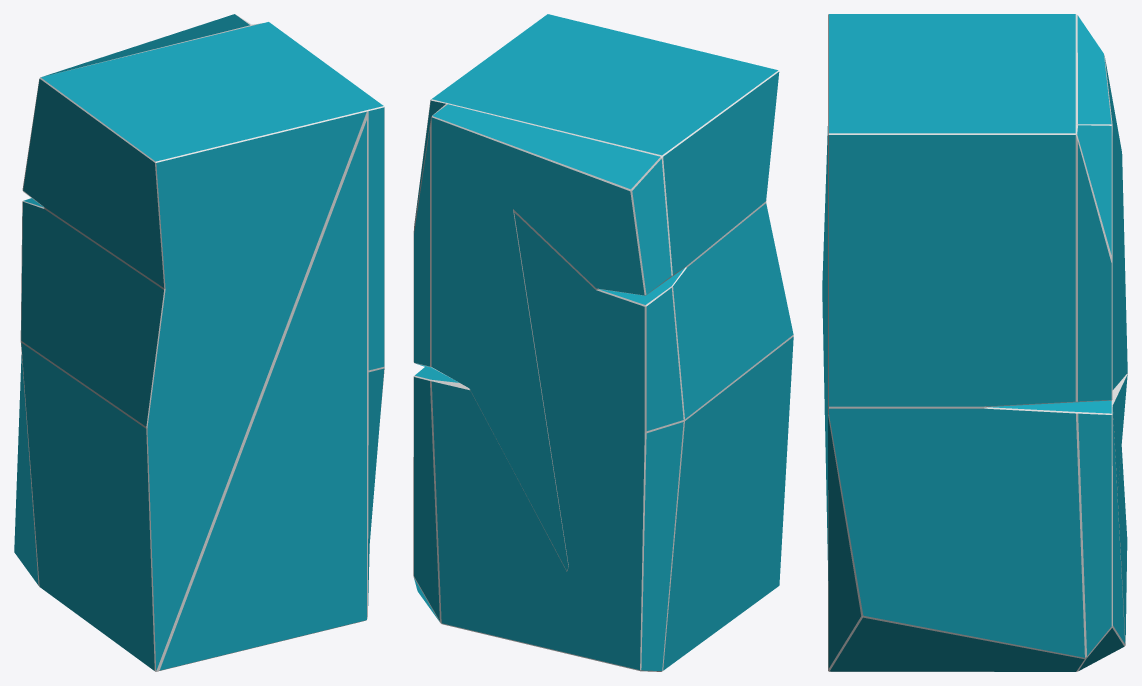
The model's file is Large IceBloc.fbx.
3 views of the same model, side by side, from view 1: azimuth 30°, elevation 25°; view 2: azimuth 150°, elevation 25°; view 3: azimuth 270°, elevation 25° (orthographic). The views are drawn at different scales.
Parts seen in each view (by area): view 1: Cube; view 2: Cube; view 3: Cube.
Boxes of the visible parts, x1=… form: Cube: x1=14, y1=14, x2=384, y2=671; Cube: x1=413, y1=14, x2=793, y2=671; Cube: x1=822, y1=14, x2=1127, y2=671.
Size of the model in its own units: 225 by 424 by 215.
